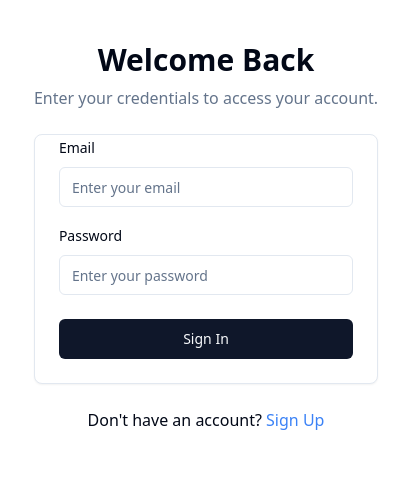
Test: Login Component › displays error messages for invalid form input
Click the button "Sign In" at (206, 339), box [59,319,353,359]
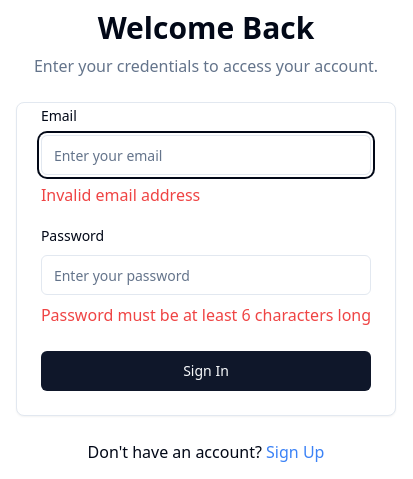
expect the text "Password must be at least 6 characters long" is shown: met, box [41,303,371,327]
expect the text "Invalid email address" is shown: met, box [41,184,200,206]
